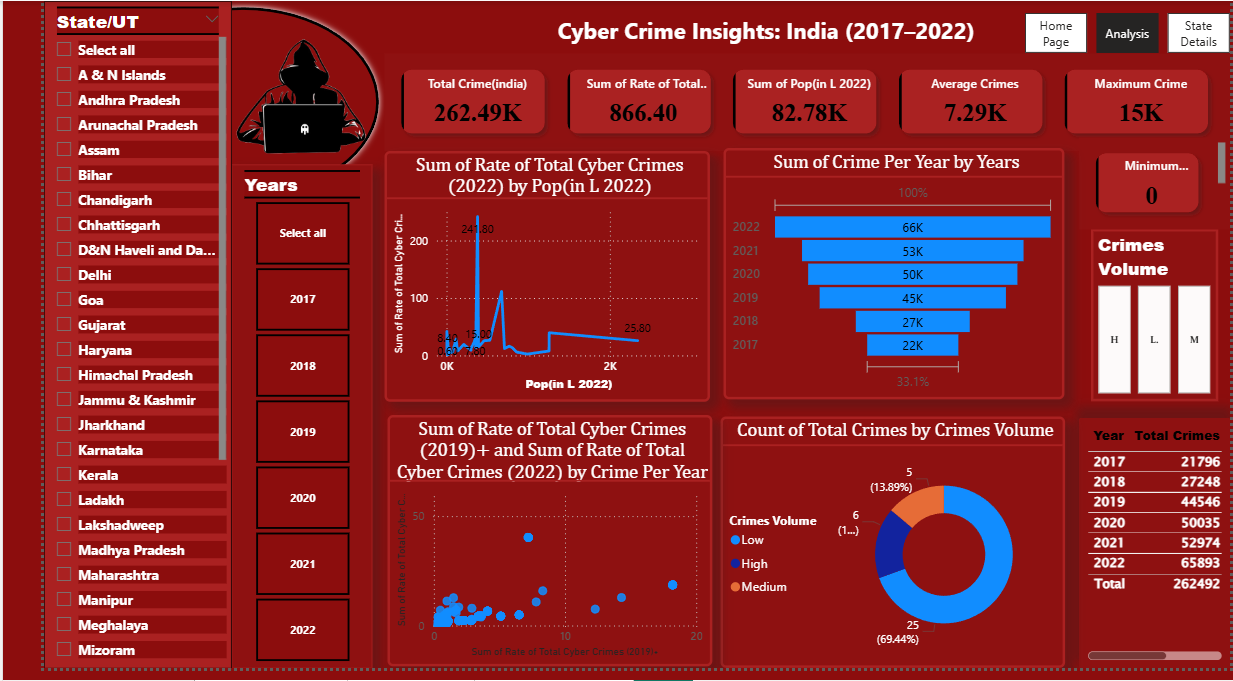

The dashboard page shown, as its layout file describes it:
{"tool":"powerbi","page":{"name":"Analysis","canvas":[1280,720],"ordinal":1},"visuals":[{"type":"shape","box":[62.3,0,306.6,218.1],"z":0},{"type":"slicer","fields":{"Values":["2017 to 2022.Years"]},"box":[202.4,175.9,152.2,544.1],"z":1000},{"type":"slicer","fields":{"Values":["2017 to 2022.State/UT"]},"box":[0,0,202.4,720.6],"z":2000},{"type":"image","box":[162.3,0,231.2,206.6],"z":3000},{"type":"shape","box":[354.6,0,850.1,56.7],"z":4000},{"type":"cardVisual","fields":{"Data":["2017 to 2022.Total Crime(india)","Sum(2017 to 2022.Rate of Total Cyber Crimes (2022))","Sum(2017 to 2022.Mid-Year Projected Population (in Lakhs))","2017 to 2022.Average Crimes(Per y)","2017 to 2022.Maximum Crime"]},"box":[366.8,56.7,913.2,105.2],"z":5000},{"type":"advancedSlicerVisual","fields":{"Values":["2017 to 2022 Crime volume.Crimes Volume"]},"box":[1130.2,246.1,137.6,186.2],"z":6000},{"type":"cardVisual","fields":{"Data":["2017 to 2022.Minimum Crime","DateTable.YoY Growth %"]},"box":[1116.5,147.3,163.5,98.8],"z":7000},{"type":"tableEx","fields":{"Values":["DateTable.Year","DateTable.Total Crimes","DateTable.YoY Change"]},"box":[1116.5,449.6,163.5,270.4],"z":8000},{"type":"lineChart","fields":{"Y":["Sum(2017 to 2022.Rate of Total Cyber Crimes (2022))"],"Category":["2017 to 2022.Pop(in L 2022)"]},"box":[367.6,161.9,351.4,270.4],"z":9000},{"type":"funnel","fields":{"Y":["Sum(2017 to 2022.Crime Per Year)"],"Category":["2017 to 2022.Years"]},"box":[734.2,159.4,368.1,271.6],"z":10000},{"type":"donutChart","fields":{"Category":["2017 to 2022 Crime volume.Crimes Volume"],"Y":["CountNonNull(2017 to 2022 Crime volume.Total Crimes)"]},"box":[730.2,448.8,372,271.6],"z":11000},{"type":"scatterChart","fields":{"Category":["2017 to 2022.Crime Per Year"],"X":["Sum(2017 to 2022.Rate of Total Cyber Crimes (2019)+)"],"Y":["Sum(2017 to 2022.Rate of Total Cyber Crimes (2022))"]},"box":[370,446.8,350.3,271.6],"z":12000},{"type":"pageNavigator","box":[1058.2,13,221.8,43.7],"z":13000}]}

Visuals, with their boxes in screenshot pixels (x1, y1, x2, y2), scaled from the page's 1280x720 canvas onto the 1233x681 screenshot:
shape: (left=60, top=0, right=355, bottom=206)
slicer - 2017 to 2022.Years: (left=195, top=166, right=342, bottom=680)
slicer - 2017 to 2022.State/UT: (left=0, top=0, right=195, bottom=680)
image: (left=156, top=0, right=379, bottom=195)
shape: (left=342, top=0, right=1160, bottom=54)
cardVisual - 2017 to 2022.Total Crime(india) x Sum(2017 to 2022.Rate of Total Cyber Crimes (2022)): (left=353, top=54, right=1232, bottom=153)
advancedSlicerVisual - 2017 to 2022 Crime volume.Crimes Volume: (left=1089, top=233, right=1221, bottom=409)
cardVisual - 2017 to 2022.Minimum Crime x DateTable.YoY Growth %: (left=1076, top=139, right=1232, bottom=233)
tableEx - DateTable.Year x DateTable.Total Crimes: (left=1076, top=425, right=1232, bottom=680)
lineChart - Sum(2017 to 2022.Rate of Total Cyber Crimes (2022)) x 2017 to 2022.Pop(in L 2022): (left=354, top=153, right=693, bottom=409)
funnel - Sum(2017 to 2022.Crime Per Year) x 2017 to 2022.Years: (left=707, top=151, right=1062, bottom=408)
donutChart - 2017 to 2022 Crime volume.Crimes Volume x CountNonNull(2017 to 2022 Crime volume.Total Crimes): (left=703, top=424, right=1062, bottom=680)
scatterChart - 2017 to 2022.Crime Per Year x Sum(2017 to 2022.Rate of Total Cyber Crimes (2019)+): (left=356, top=423, right=694, bottom=679)
pageNavigator: (left=1019, top=12, right=1232, bottom=54)
